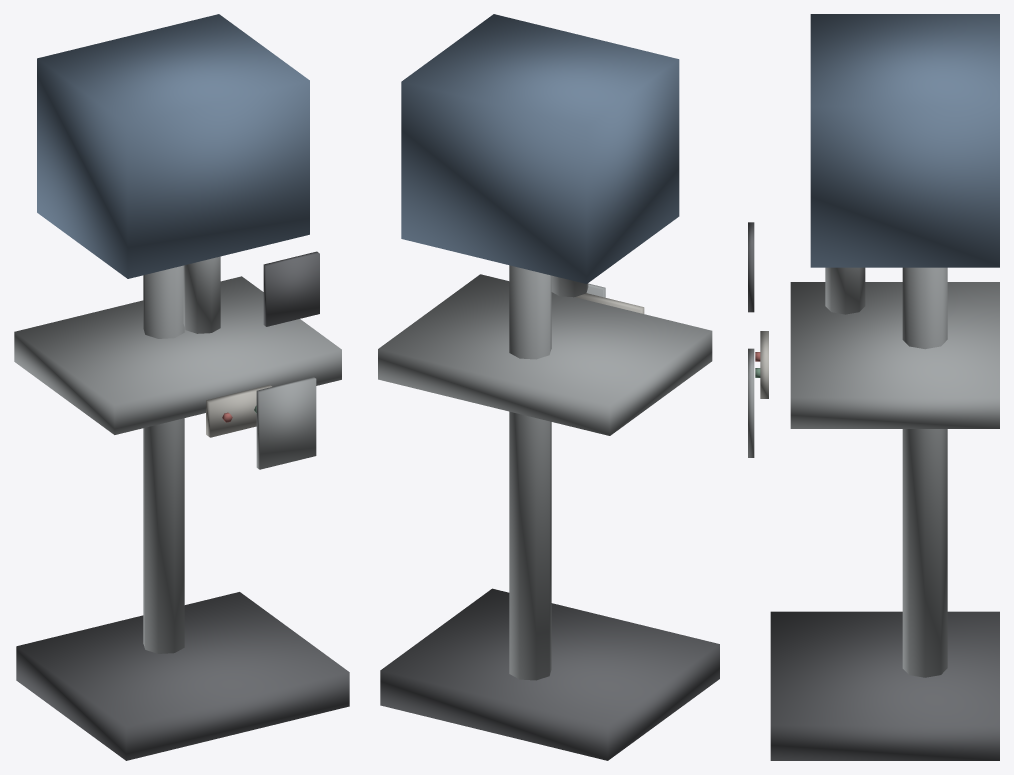
Rendered from drill_press__weathered.glb.
3 renders of one model, left to right at view 1: azimuth 30°, elevation 25°; view 2: azimuth 150°, elevation 25°; view 3: azimuth 270°, elevation 25°, orthographic. The views are drawn at different scales.
Parts seen in each view (by area): view 1: world; view 2: world; view 3: world.
Part boxes in pixels (x1,y1,x2,y2): world: [14, 14, 349, 760]; world: [378, 14, 719, 760]; world: [748, 14, 999, 760].
Size of the model in its own units: 0.55 by 1.43 by 0.5051.
